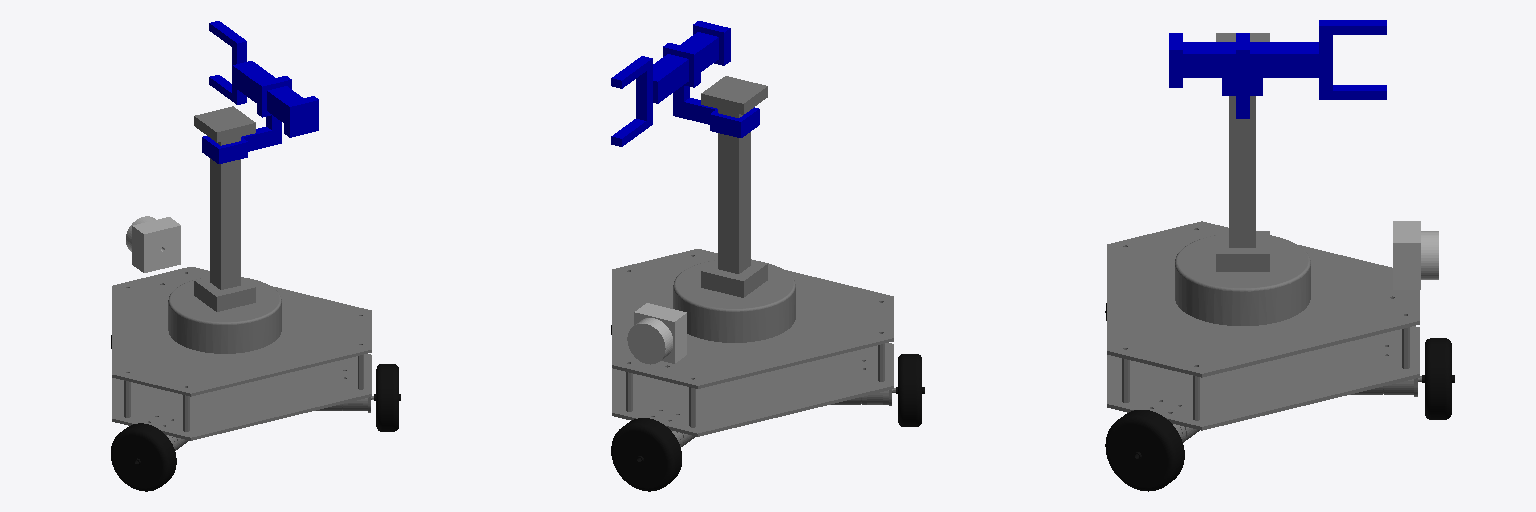
robot.urdf — my_robot:
<?xml version="1.0" encoding="utf-8"?>
<robot name="my_robot">

  <link name="base_footprint"/>

  <joint name="base_joint" type="fixed">
    <parent link="base_footprint"/>
    <child link="base_link"/>
    <origin xyz="0 0 0.05" rpy="0 0 0"/>
  </joint>

  <link name="base_link">
    <inertial>
      <origin xyz="0 0 0.05" rpy="0 0 0"/>
      <mass value="10.0"/>
      <inertia ixx="0.1" ixy="0" ixz="0" iyy="0.1" iyz="0" izz="0.1"/>
    </inertial>
    <visual>
      <geometry>
        <mesh filename="package://my_robot/meshes/base_link.STL"/>
      </geometry>
      <material name="grey">
        <color rgba="0.5 0.5 0.5 1.0"/>
      </material>
    </visual>
    <collision>
      <geometry>
        <mesh filename="package://my_robot/meshes/base_link.STL"/>
      </geometry>
    </collision>
  </link>

  <link name="link_wheel_1">
    <inertial>
      <origin xyz="0 0 0.012" rpy="0 0 0"/>
      <mass value="0.35"/>
      <inertia ixx="1.3e-5" ixy="0" ixz="0" iyy="1.3e-5" iyz="0" izz="2.3e-5"/>
    </inertial>
    <visual>
      <geometry>
        <mesh filename="package://my_robot/meshes/link_wheel_1.STL"/>
      </geometry>
      <material name="black">
        <color rgba="0.1 0.1 0.1 1.0"/>
      </material>
    </visual>
    <collision>
      <geometry>
        <mesh filename="package://my_robot/meshes/link_wheel_1.STL"/>
      </geometry>
    </collision>
  </link>

  <joint name="joint_wheel_1" type="continuous">
    <origin xyz="0 0.1315 -0.02" rpy="1.5708 0 3.1416"/>
    <parent link="base_link"/>
    <child link="link_wheel_1"/>
    <axis xyz="0 0 1"/>
    <dynamics damping="0.1" friction="0.1"/>
  </joint>

  <link name="link_wheel_2">
    <inertial>
      <origin xyz="0 0 0.006" rpy="0 0 0"/>
      <mass value="0.06"/>
      <inertia ixx="1.3e-5" ixy="0" ixz="0" iyy="1.3e-5" iyz="0" izz="2.3e-5"/>
    </inertial>
    <visual>
      <geometry>
        <mesh filename="package://my_robot/meshes/link_wheel_2.STL"/>
      </geometry>
      <material name="black">
        <color rgba="0.1 0.1 0.1 1.0"/>
      </material>
    </visual>
    <collision>
      <geometry>
        <mesh filename="package://my_robot/meshes/link_wheel_2.STL"/>
      </geometry>
    </collision>
  </link>

  <joint name="joint_wheel_2" type="continuous">
    <origin xyz="-0.11908 -0.06875 -0.02" rpy="1.5708 0 -1.0472"/>
    <parent link="base_link"/>
    <child link="link_wheel_2"/>
    <axis xyz="0 0 1"/>
    <dynamics damping="0.1" friction="0.1"/>
  </joint>

  <link name="link_wheel_3">
    <inertial>
      <origin xyz="0 0 0.047" rpy="0 0 0"/>
      <mass value="0.06"/>
      <inertia ixx="1.3e-5" ixy="0" ixz="0" iyy="1.3e-5" iyz="0" izz="2.3e-5"/>
    </inertial>
    <visual>
      <geometry>
        <mesh filename="package://my_robot/meshes/link_wheel_3.STL"/>
      </geometry>
      <material name="black">
        <color rgba="0.1 0.1 0.1 1.0"/>
      </material>
    </visual>
    <collision>
      <geometry>
        <mesh filename="package://my_robot/meshes/link_wheel_3.STL"/>
      </geometry>
    </collision>
  </link>

  <joint name="joint_wheel_3" type="continuous">
    <origin xyz="0.082948 -0.04789 -0.02" rpy="1.5708 0 1.0472"/>
    <parent link="base_link"/>
    <child link="link_wheel_3"/>
    <axis xyz="0 0 1"/>
    <dynamics damping="0.1" friction="0.1"/>
  </joint>

  <joint name="joint_arm_dung" type="prismatic">
    <origin xyz="0 0 0.21658" rpy="1.5708 0 0"/>
    <parent link="base_link"/>
    <child link="link_arm_dung"/>
    <axis xyz="0 1 0"/>
    <limit lower="-0.125" upper="0.02" effort="5" velocity="0.25"/>
    <dynamics damping="0.2" friction="0.02"/>
  </joint>

  <link name="link_arm_dung">
    <inertial>
      <origin xyz="0.02 0.01 0.0" rpy="0 0 0"/>
      <mass value="0.1"/>
      <inertia ixx="1e-4" ixy="0" ixz="0" iyy="1e-4" iyz="0" izz="1e-4"/>
    </inertial>
    <visual>
      <geometry>
        <mesh filename="package://my_robot/meshes/link_arm_dung.STL"/>
      </geometry>
      <material name="blue">
        <color rgba="0.0 0.0 0.8 1.0"/>
      </material>
    </visual>
  </link>

  <joint name="joint_arm_ngang" type="prismatic">
    <origin xyz="0.045 0.045 -0.056" rpy="0 0 0"/>
    <parent link="link_arm_dung"/>
    <child link="link_arm_ngang"/>
    <axis xyz="0 0 1"/>
    <limit lower="-0.035" upper="0.045" effort="5" velocity="0.1"/>
    <dynamics damping="0.2" friction="0.02"/>
  </joint>

  <link name="link_arm_ngang">
    <inertial>
      <origin xyz="0 0 0.04" rpy="0 0 0"/>
      <mass value="0.15"/>
      <inertia ixx="1e-4" ixy="0" ixz="0" iyy="1e-4" iyz="0" izz="1e-4"/>
    </inertial>
    <visual>
      <geometry>
        <mesh filename="package://my_robot/meshes/link_arm_ngang.STL"/>
      </geometry>
      <material name="blue">
        <color rgba="0.0 0.0 0.8 1.0"/>
      </material>
    </visual>
  </link>

  <link name="link_lidar">
    <inertial>
      <origin xyz="0 0 0" rpy="0 0 0"/>
      <mass value="0.005"/>
      <inertia ixx="1e-5" ixy="0" ixz="0" iyy="1e-5" iyz="0" izz="1e-5"/>
    </inertial>
    <visual>
      <geometry>
        <mesh filename="package://my_robot/meshes/link_lidar.STL"/>
      </geometry>
    </visual>
  </link>

  <joint name="joint_lidar" type="fixed">
    <origin xyz="0 0.11 0.08" rpy="0 0 0"/>
    <parent link="base_link"/>
    <child link="link_lidar"/>
  </joint>

  <gazebo>
    <plugin filename="libignition-gazebo-sensors-system.so" name="ignition::gazebo::systems::Sensors"/>
    <plugin filename="libignition-gazebo-scene-broadcaster-system.so" name="ignition::gazebo::systems::SceneBroadcaster"/>
    <plugin filename="libignition-gazebo-joint-state-publisher-system.so" name="ignition::gazebo::systems::JointStatePublisher">
      <topic>/joint_states</topic>
      <joint_name>joint_wheel_1</joint_name>
      <joint_name>joint_wheel_2</joint_name>
      <joint_name>joint_wheel_3</joint_name>
      <joint_name>joint_arm_dung</joint_name>
      <joint_name>joint_arm_ngang</joint_name>
    </plugin>
    <plugin filename="libignition-gazebo-odometry-publisher-system.so" name="ignition::gazebo::systems::OdometryPublisher">
      <odom_frame>odom</odom_frame>
      <robot_base_frame>base_footprint</robot_base_frame>
      <odom_topic>/odom</odom_topic>
      <tf_topic>/tf</tf_topic>
      <dimensions>2</dimensions>
      <odom_publish_frequency>50</odom_publish_frequency>
    </plugin>
    <plugin filename="libignition-gazebo-joint-controller-system.so" name="ignition::gazebo::systems::JointController">
      <joint_name>joint_wheel_1</joint_name>
      <topic>/wheel_1_cmd</topic>
      <use_force_commands>false</use_force_commands>
    </plugin>
    <plugin filename="libignition-gazebo-joint-controller-system.so" name="ignition::gazebo::systems::JointController">
      <joint_name>joint_wheel_2</joint_name>
      <topic>/wheel_2_cmd</topic>
      <use_force_commands>false</use_force_commands>
    </plugin>
    <plugin filename="libignition-gazebo-joint-controller-system.so" name="ignition::gazebo::systems::JointController">
      <joint_name>joint_wheel_3</joint_name>
      <topic>/wheel_3_cmd</topic>
      <use_force_commands>false</use_force_commands>
    </plugin>
    <plugin filename="libignition-gazebo-joint-position-controller-system.so" name="ignition::gazebo::systems::JointPositionController">
      <joint_name>joint_arm_dung</joint_name>
      <topic>/arm_dung_cmd</topic>
      <p_gain>220.0</p_gain>
      <i_gain>8.0</i_gain>
      <d_gain>12.0</d_gain>
      <i_max>60.0</i_max>
      <i_min>-60.0</i_min>
      <cmd_max>1500</cmd_max>
      <cmd_min>-800</cmd_min>
    </plugin>
    <plugin filename="libignition-gazebo-joint-position-controller-system.so" name="ignition::gazebo::systems::JointPositionController">
      <joint_name>joint_arm_ngang</joint_name>
      <topic>/arm_ngang_cmd</topic>
      <p_gain>220.0</p_gain>
      <i_gain>8.0</i_gain>
      <d_gain>12.0</d_gain>
      <i_max>60.0</i_max>
      <i_min>-60.0</i_min>
      <cmd_max>1200</cmd_max>
      <cmd_min>-1200</cmd_min>
    </plugin>
  </gazebo>

  <gazebo reference="base_link">
    <sensor name="imu_sensor" type="imu">
      <always_on>true</always_on>
      <update_rate>50</update_rate>
      <topic>/imu</topic>
    </sensor>
  </gazebo>

  <gazebo reference="link_lidar">
    <sensor name="lidar_sensor" type="gpu_lidar">
      <always_on>true</always_on>
      <visualize>true</visualize>
      <update_rate>10</update_rate>
      <topic>/scan</topic>
      <lidar>
        <scan>
          <horizontal>
            <samples>720</samples>
            <resolution>1</resolution>
            <min_angle>-3.14159</min_angle>
            <max_angle>3.14159</max_angle>
          </horizontal>
          <vertical>
            <samples>1</samples>
            <resolution>1</resolution>
            <min_angle>0.0</min_angle>
            <max_angle>0.0</max_angle>
          </vertical>
        </scan>
        <range>
          <min>0.12</min>
          <max>8.0</max>
          <resolution>0.01</resolution>
        </range>
        <noise>
          <type>gaussian</type>
          <mean>0.0</mean>
          <stddev>0.01</stddev>
        </noise>
      </lidar>
    </sensor>
  </gazebo>

  <gazebo reference="link_wheel_1">
    <mu1>1.0</mu1>
    <mu2>1.0</mu2>
    <kp>1000000.0</kp>
    <kd>10.0</kd>
  </gazebo>

  <gazebo reference="link_wheel_2">
    <mu1>1.0</mu1>
    <mu2>1.0</mu2>
    <kp>1000000.0</kp>
    <kd>10.0</kd>
  </gazebo>

  <gazebo reference="link_wheel_3">
    <mu1>1.0</mu1>
    <mu2>1.0</mu2>
    <kp>1000000.0</kp>
    <kd>10.0</kd>
  </gazebo>

</robot>

--- Render facts (derived) ---
3 views of the same robot in one strip: view 1: azimuth 30°, elevation 25°; view 2: azimuth 150°, elevation 25°; view 3: azimuth 270°, elevation 25° (orthographic).
Robot: my_robot — 8 links, 7 joints (3 continuous, 2 prismatic, 2 fixed); root link base_footprint; default pose: all joints at 0.
Links seen in each view (by area): view 1: base_link, link_arm_ngang, link_wheel_2, link_lidar, link_arm_dung, link_wheel_3; view 2: base_link, link_arm_ngang, link_wheel_1, link_lidar, link_arm_dung, link_wheel_2; view 3: base_link, link_arm_ngang, link_wheel_3, link_lidar, link_wheel_1, link_arm_dung.
Boxes of the visible links, left/top/right/bottom form: base_link: left=112, top=106, right=373, bottom=450; link_arm_ngang: left=209, top=21, right=318, bottom=137; link_wheel_2: left=111, top=423, right=176, bottom=491; link_lidar: left=126, top=216, right=180, bottom=272; link_arm_dung: left=202, top=76, right=291, bottom=163; link_wheel_3: left=374, top=364, right=400, bottom=431; base_link: left=612, top=76, right=895, bottom=446; link_arm_ngang: left=611, top=21, right=730, bottom=146; link_wheel_1: left=611, top=418, right=681, bottom=491; link_lidar: left=627, top=303, right=686, bottom=364; link_arm_dung: left=663, top=43, right=759, bottom=137; link_wheel_2: left=896, top=354, right=924, bottom=426; base_link: left=1107, top=33, right=1421, bottom=442; link_arm_ngang: left=1169, top=20, right=1386, bottom=99; link_wheel_3: left=1105, top=410, right=1184, bottom=491; link_lidar: left=1393, top=221, right=1438, bottom=289; link_wheel_1: left=1422, top=338, right=1454, bottom=419; link_arm_dung: left=1222, top=33, right=1262, bottom=118.
Size in the robot's own frame: 0.2922 by 0.2564 by 0.3416 metres.
Meshes: 7 distinct files referenced, 7 mesh visuals loaded (7 binary STL).
